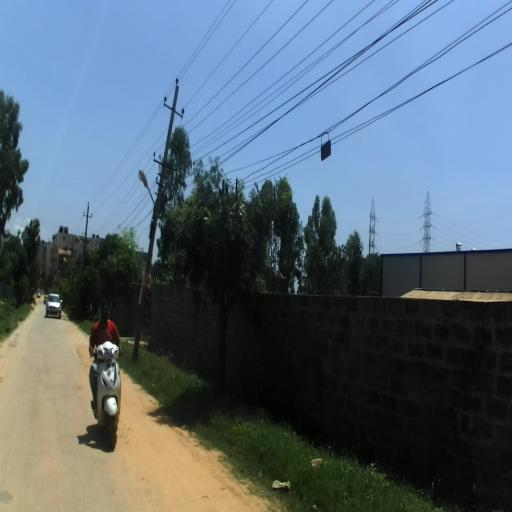street_light_0: (138, 170, 158, 220), (76, 234, 86, 251), (64, 258, 68, 264)
